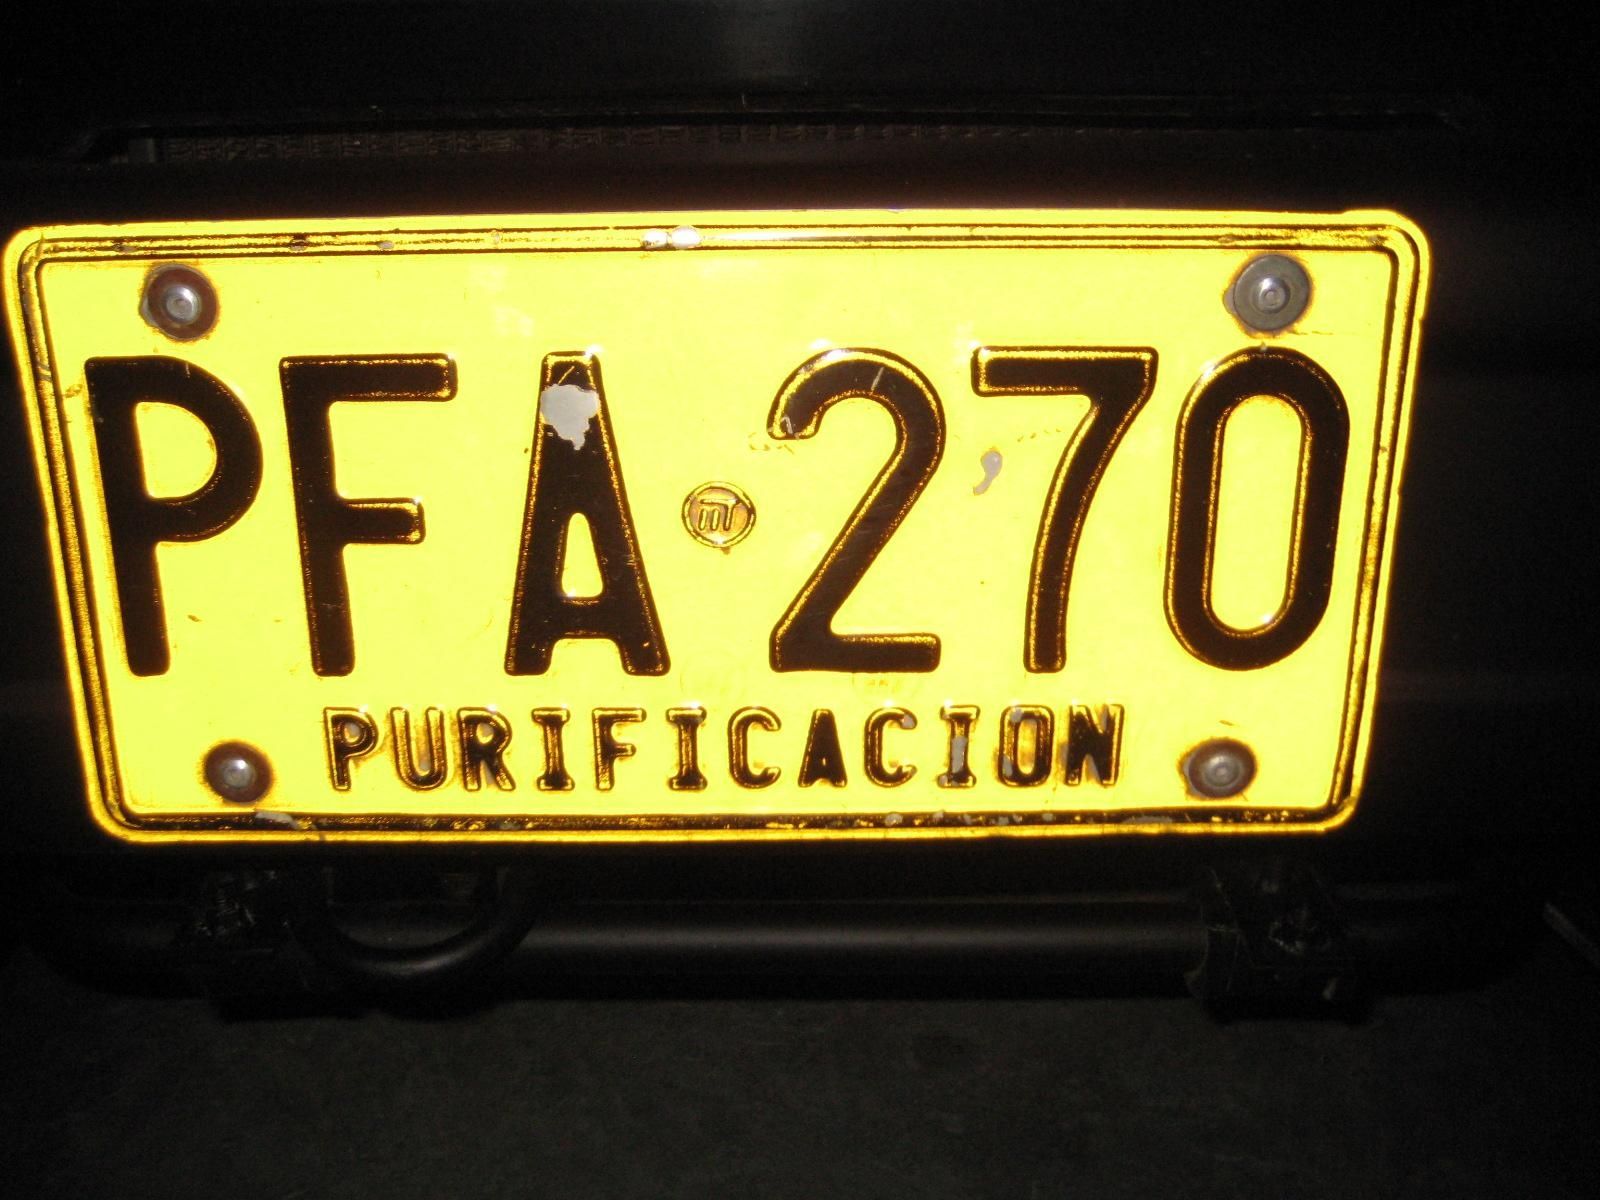placas: (2, 191, 1442, 867)
